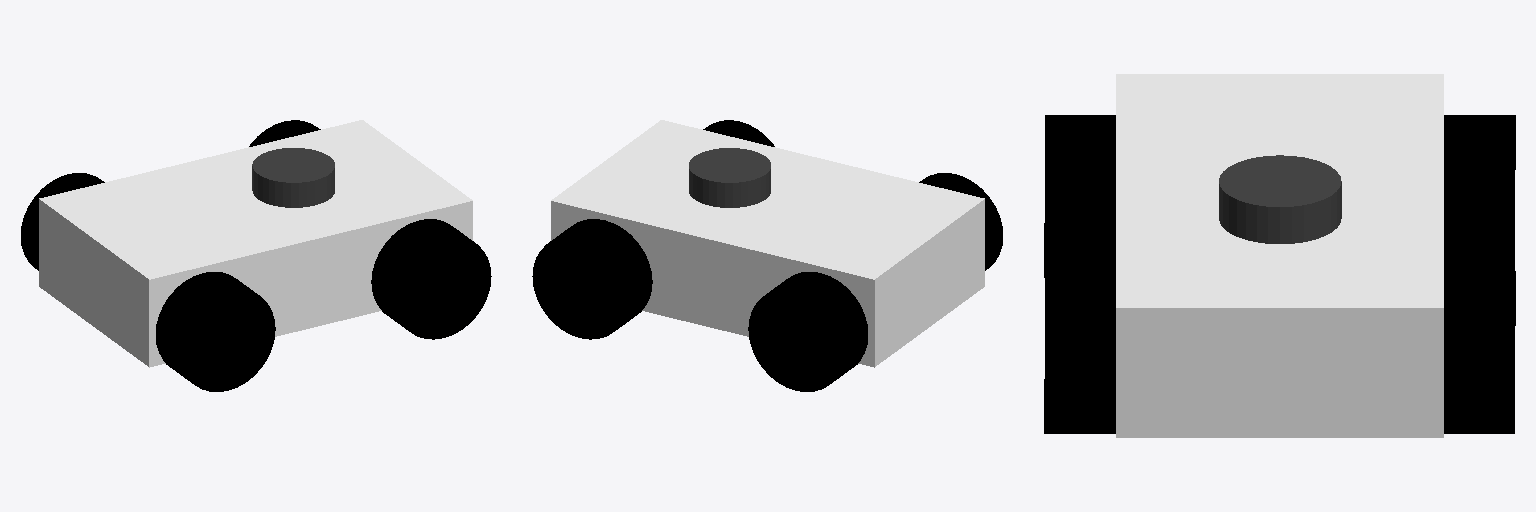
URDF robot description (wheeltec_robot):
<?xml version="1.0" ?>
<robot name="wheeltec_robot">

    <link name="base_link">
        <visual>
            <origin xyz=" 0 0 0.05" rpy="0 0 0" />
            <geometry>
                <box size="0.27 0.16 0.07"/>
            </geometry>
            <material name="white">
                <color rgba="1 1 1 1"/>
            </material>
        </visual>
    </link>   

    <joint name="left_wheel_joint" type="continuous">
        <origin xyz="-0.09 0.095 0.04" rpy="1.57 0 0"/>
        <parent link="base_link"/>
        <child link="left_wheel_link"/>
        <axis xyz="0 1 0"/>
    </joint>

    <link name="left_wheel_link">
        <visual>
            <origin xyz="0 0 0" rpy="0 0 0" />
            <geometry>
                <cylinder radius="0.04" length = "0.04"/>
            </geometry>
            <material name="black">
                <color rgba="0 0 0 1"/>
            </material>
        </visual>
    </link>

    <joint name="right_wheel_joint" type="continuous">
        <origin xyz="-0.09 -0.095 0.04" rpy="1.57 0 0"/>
        <parent link="base_link"/>
        <child link="right_wheel_link"/>
        <axis xyz="0 1 0"/>
    </joint>

    <link name="right_wheel_link">
        <visual>
            <origin xyz="0 0 0" rpy="0 0 0" />
            <geometry>
                <cylinder radius="0.04" length = "0.04"/>
            </geometry>
            <material name="black">
                <color rgba="0 0 0 1"/>
            </material>
        </visual>
    </link>

      <joint name="left_front_joint" type="continuous">
        <origin xyz="0.09 0.095 0.04" rpy="1.57 0 0"/>
        <parent link="base_link"/>
        <child link="left_front_link"/>
        <axis xyz="0 1 0"/>
    </joint>

    <link name="left_front_link">
        <visual>
            <origin xyz="0 0 0" rpy="0 0 0" />
            <geometry>
                <cylinder radius="0.04" length = "0.04"/>
            </geometry>
            <material name="black">
                <color rgba="0 0 0 1"/>
            </material>
        </visual>
    </link>

    <joint name="right_front_joint" type="continuous">
        <origin xyz="0.09 -0.095 0.04" rpy="1.57 0 0"/>
        <parent link="base_link"/>
        <child link="right_front_link"/>
        <axis xyz="0 1 0"/>
    </joint>

    <link name="right_front_link">
        <visual>
            <origin xyz="0 0 0" rpy="0 0 0" />
            <geometry>
                <cylinder radius="0.04" length = "0.04"/>
            </geometry>
            <material name="black">
                <color rgba="0 0 0 1"/>
            </material>
        </visual>
    </link>

    <joint name="laser_joint" type="fixed">
        <origin xyz="0.0316 0.0001 0.0950" rpy="0 0 3.14159"/>
        <parent link="base_link"/>
        <child link="laser_link"/>
    </joint>

    <link name="laser_link">
        <visual>
            <origin xyz="0 0 0" rpy="0 0 0" />
            <geometry>
                <cylinder radius="0.03" length="0.02"/>
            </geometry>
            <material name="dark_grey">
                <color rgba="0.3 0.3 0.3 1"/>
            </material>
        </visual>
    </link>


</robot>

--- Facts derived from the render (not from the file) ---
Views: 3 orthographic renders of the robot side by side, from view 1: azimuth 30°, elevation 25°; view 2: azimuth 150°, elevation 25°; view 3: azimuth 270°, elevation 25°.
Robot: wheeltec_robot — 6 links, 5 joints (4 continuous, 1 fixed); root link base_link; default pose: every joint at zero.
Links seen in each view (by area): view 1: base_link, right_wheel_link, right_front_link, laser_link, left_wheel_link, left_front_link; view 2: base_link, left_wheel_link, left_front_link, laser_link, right_wheel_link, right_front_link; view 3: base_link, left_front_link, right_front_link, left_wheel_link, right_wheel_link, laser_link.
Boxes of the visible links, x1,y1,x2,y2 form: base_link: (39,120,472,367); right_wheel_link: (156,272,275,391); right_front_link: (371,219,491,339); laser_link: (252,148,334,207); left_wheel_link: (21,173,104,270); left_front_link: (249,120,320,146); base_link: (551,120,984,367); left_wheel_link: (748,272,867,391); left_front_link: (532,219,652,339); laser_link: (689,148,770,207); right_wheel_link: (919,173,1002,270); right_front_link: (703,120,774,146); base_link: (1116,74,1443,437); left_front_link: (1444,271,1515,433); right_front_link: (1044,271,1115,433); left_wheel_link: (1444,115,1515,270); right_wheel_link: (1044,115,1115,277); laser_link: (1219,155,1341,243).
Bounding box of the posed robot: 0.27 × 0.2301 × 0.105 m (x, y, z).
Geometry: primitives only (box / cylinder / sphere), no mesh files.